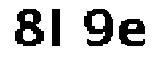8: (12, 5, 47, 50)
9: (78, 6, 115, 50)
e: (117, 16, 149, 50)
l: (48, 5, 71, 49)
